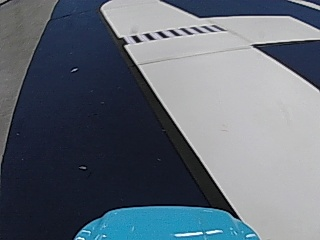CrossWalk: (125, 22, 218, 45)
